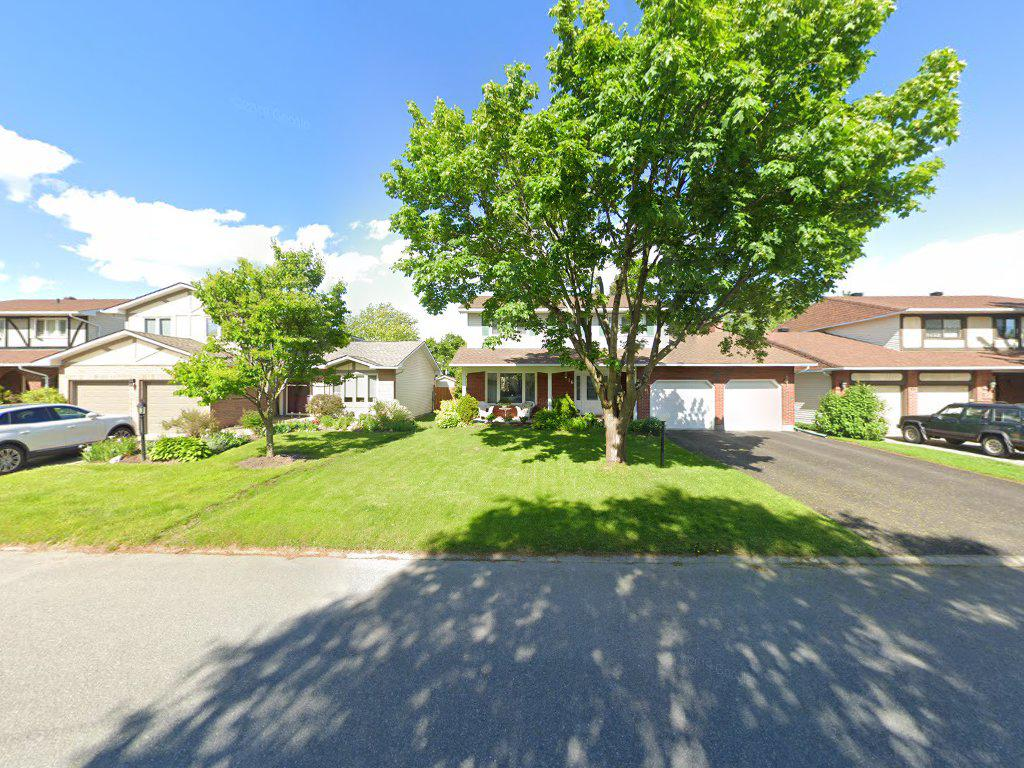trunk: (589, 354, 641, 472)
